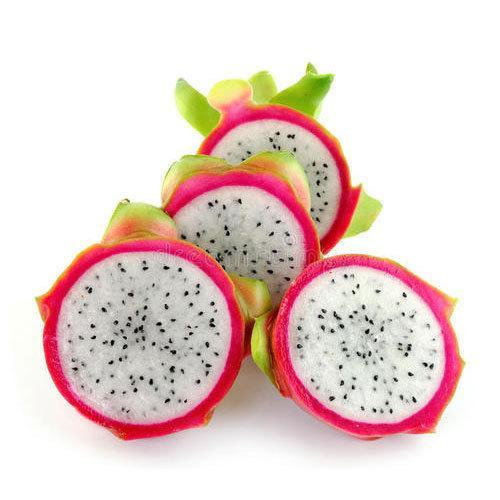dragon-fruit: (41, 235, 247, 443), (269, 251, 464, 439), (195, 102, 353, 256), (162, 167, 323, 311)
